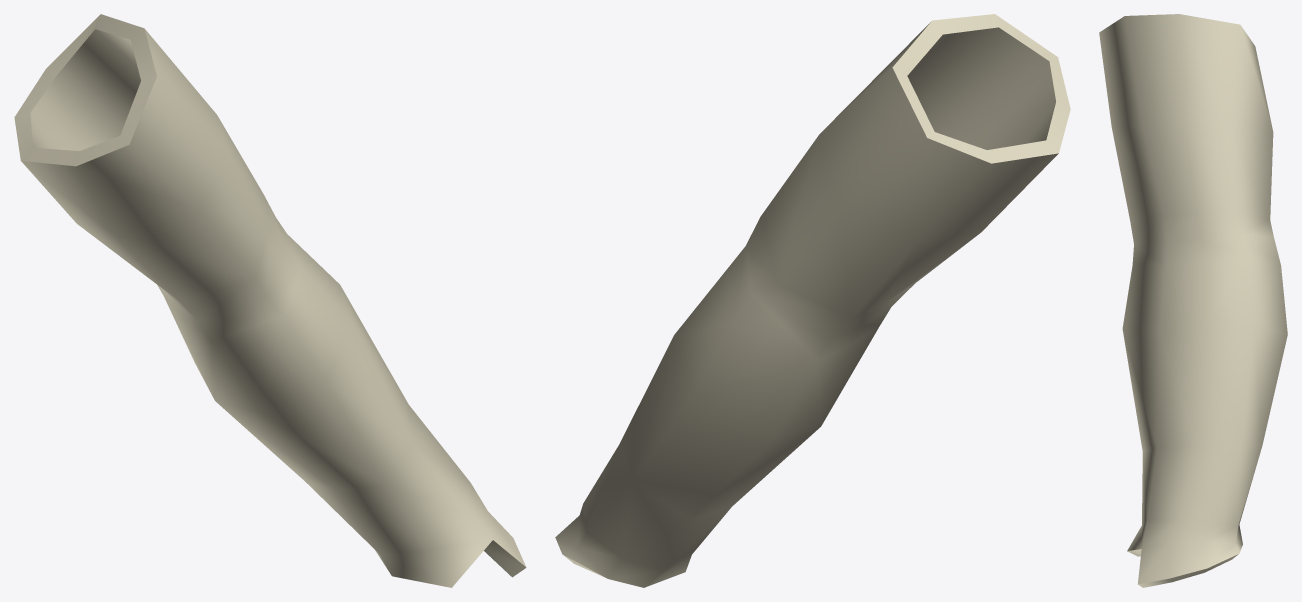
Rendered from Arm_1_L.fbx.
The picture shows the model from 3 angles, left to right: view 1: azimuth 30°, elevation 25°; view 2: azimuth 150°, elevation 25°; view 3: azimuth 270°, elevation 25°; orthographic projection. The views are drawn at different scales.
Visible parts, largest first — view 1: Arm_1_L; view 2: Arm_1_L; view 3: Arm_1_L.
Boxes of the visible parts, x1,y1,x2,y2 form: Arm_1_L: (14, 14, 526, 587); Arm_1_L: (555, 14, 1070, 587); Arm_1_L: (1099, 14, 1287, 587).
Bounding box in the file's own units: 37.35 × 45.1 × 17.1.
